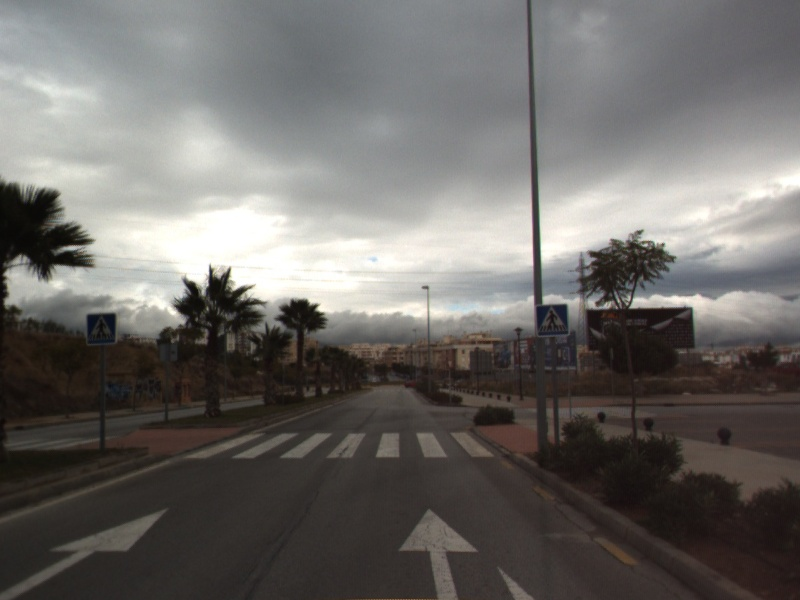STRAIGHT: (1, 506, 172, 600), (395, 506, 481, 600)
